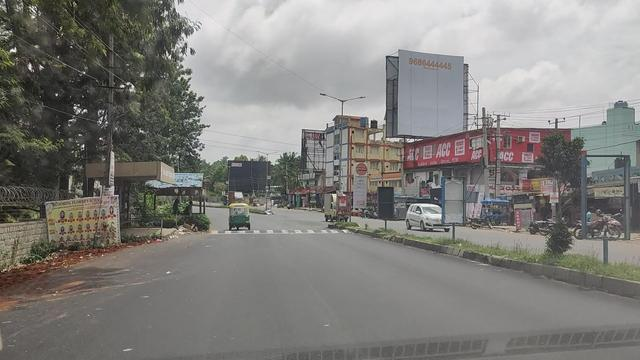LMV: (230, 203, 251, 229)
SpeedBump: (215, 227, 351, 236)
